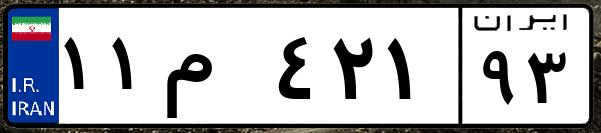1: (385, 28, 445, 110), (57, 26, 110, 100), (110, 28, 158, 98)
2: (330, 28, 385, 110)
3: (525, 38, 570, 115)
4: (270, 28, 330, 110)
9: (475, 38, 525, 113)
م: (158, 20, 270, 120)
